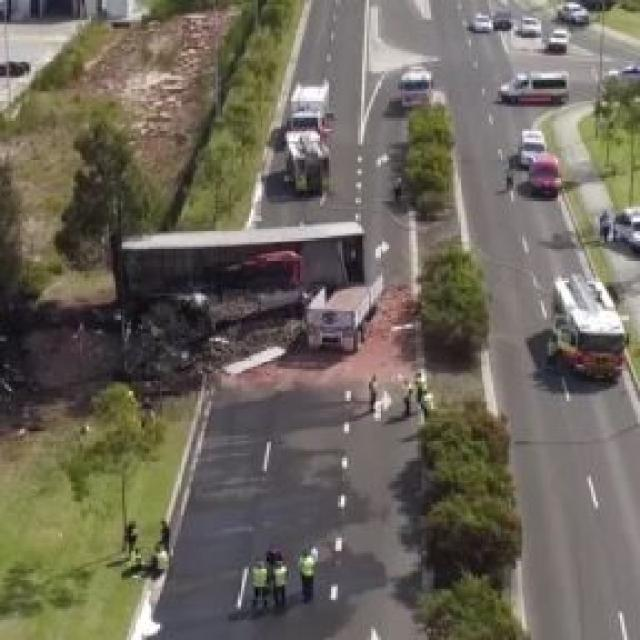traffic_incident: (93, 218, 384, 369), (264, 118, 346, 196)
